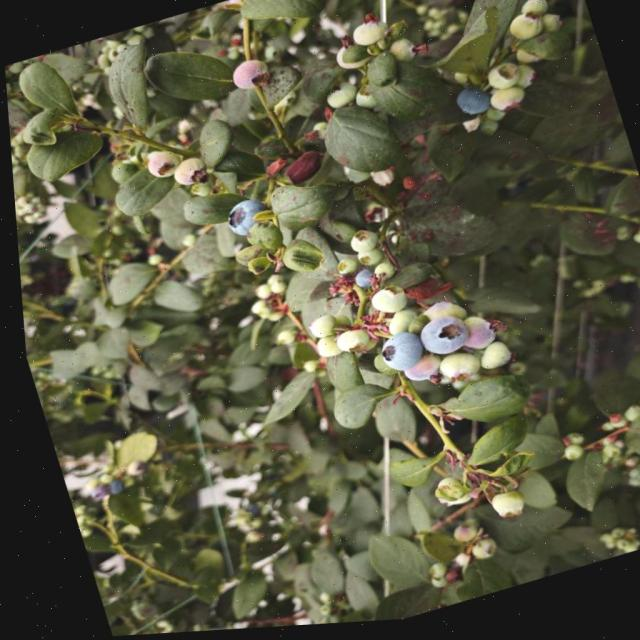RipeBlueBerry: (369, 331, 423, 380), (219, 197, 269, 241), (450, 87, 492, 124)
Semi-RipeBlueBerry: (409, 314, 469, 364), (226, 56, 273, 95)
UnripeBlueBerry: (429, 352, 480, 391), (453, 316, 495, 358), (362, 284, 408, 322), (347, 17, 393, 54), (166, 156, 208, 191)
